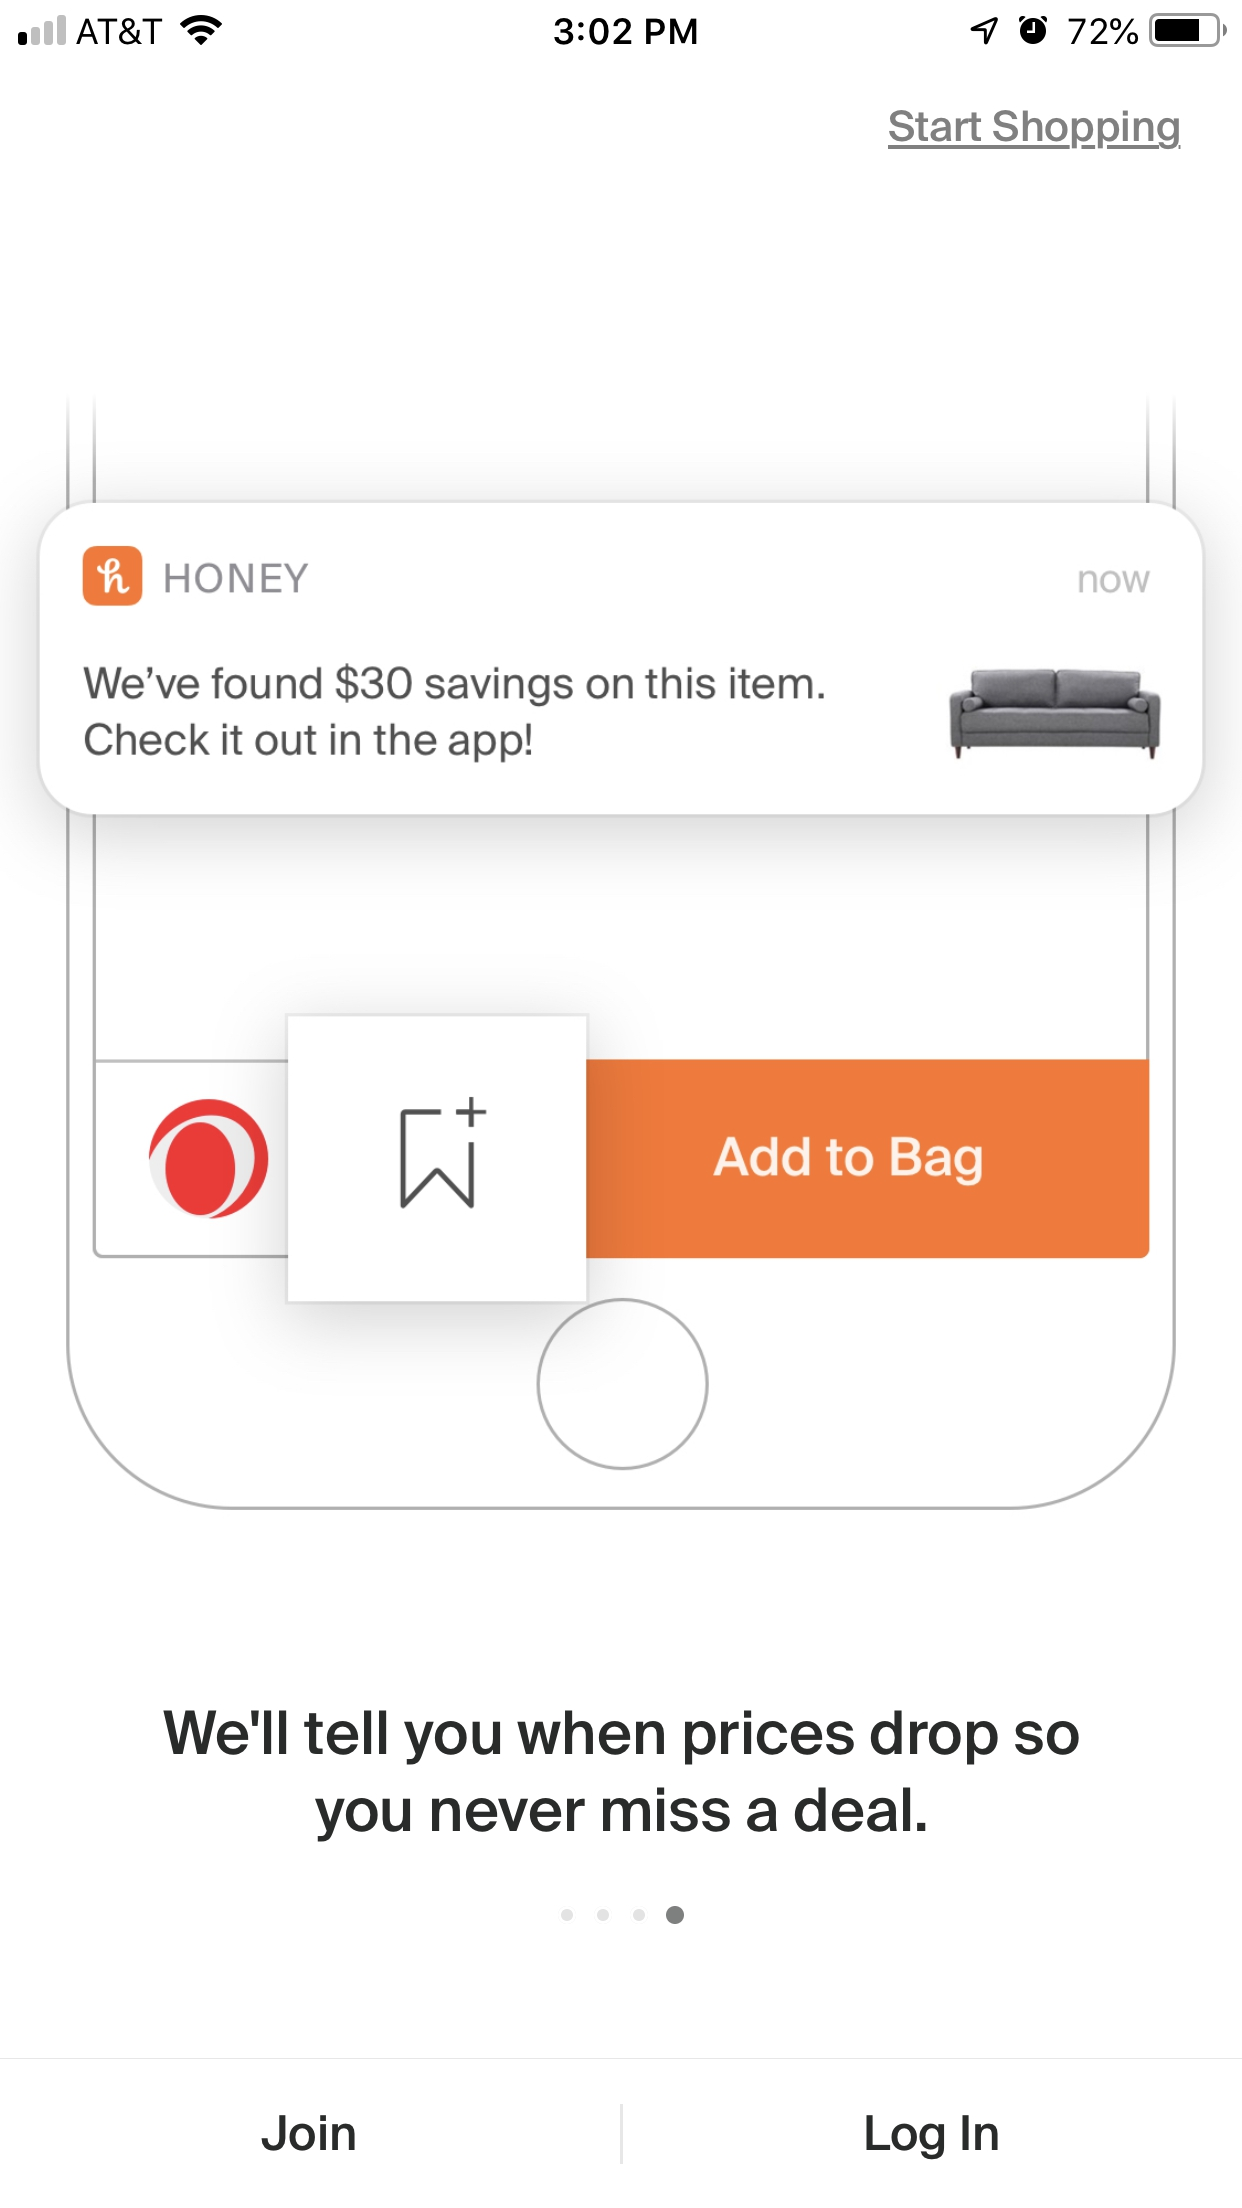Image: (36, 397, 1207, 1510)
PageIndicator: (557, 1905, 685, 1924)
Text: (162, 1711, 1080, 1843), (889, 109, 1181, 152)
TextButton: (2, 2058, 622, 2208), (622, 2058, 1242, 2208)
UpperTaskBar: (2, 2, 1242, 49)
